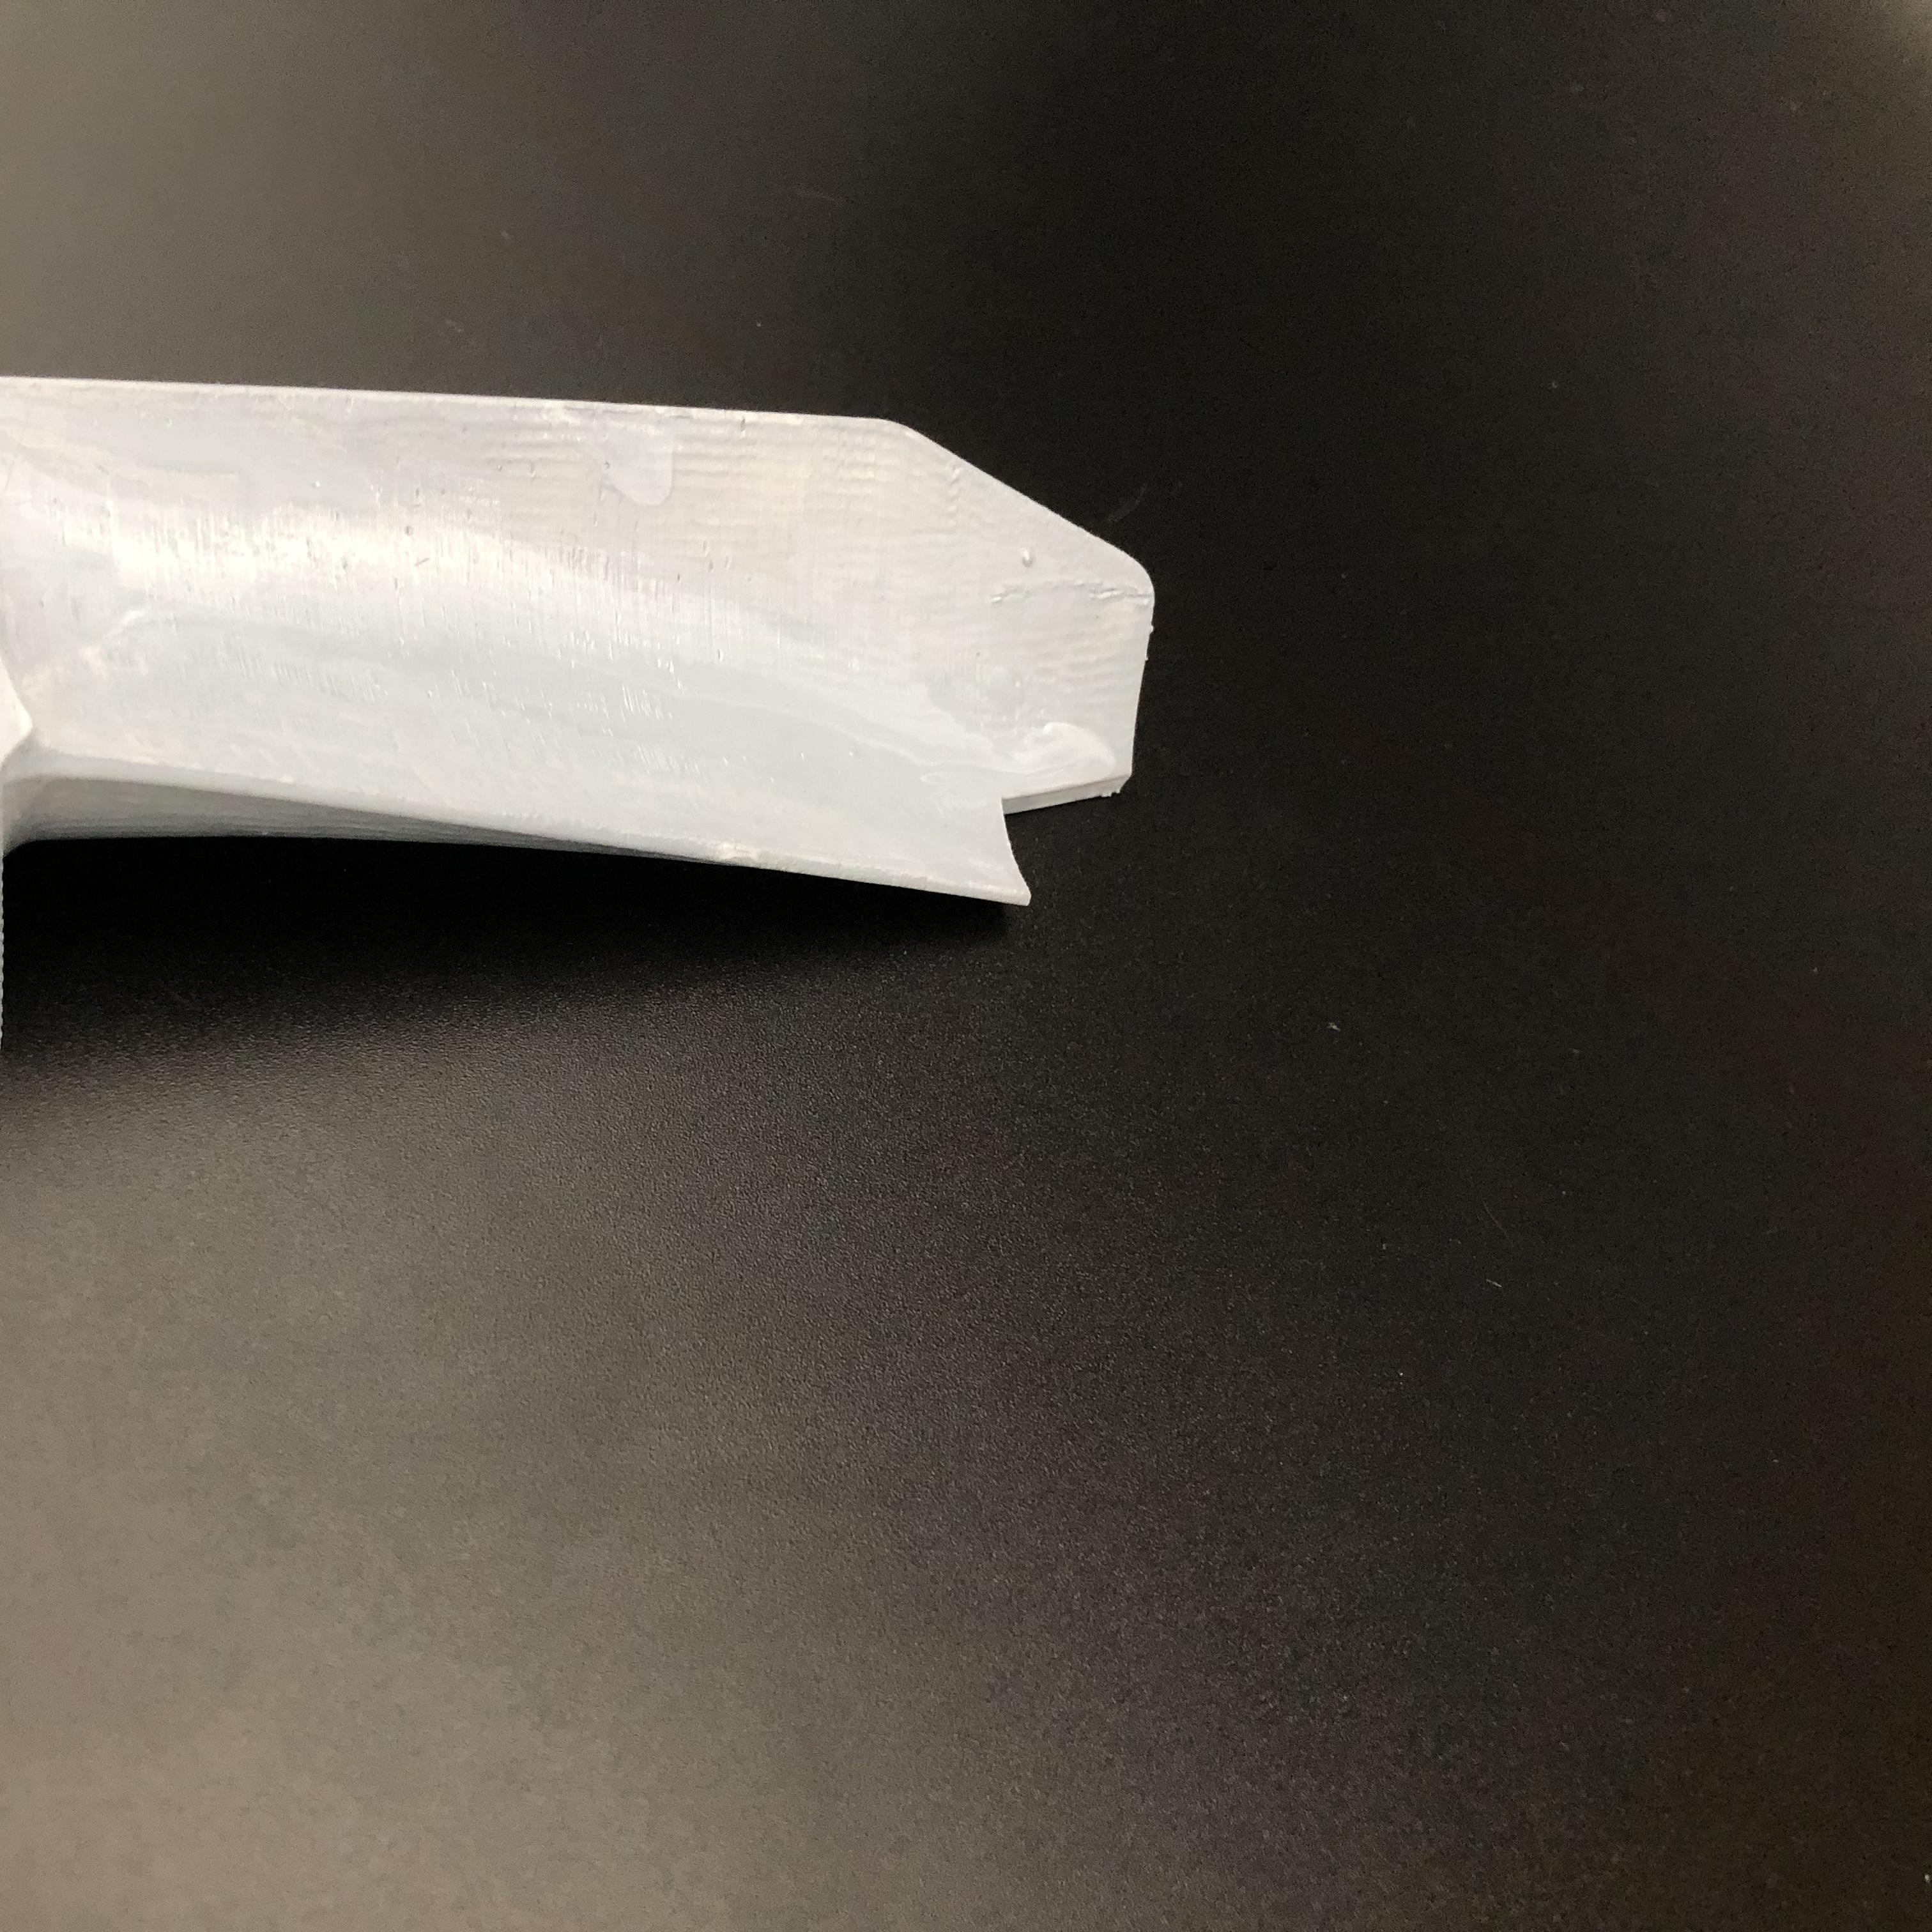fracture: (980, 771, 1148, 906)
